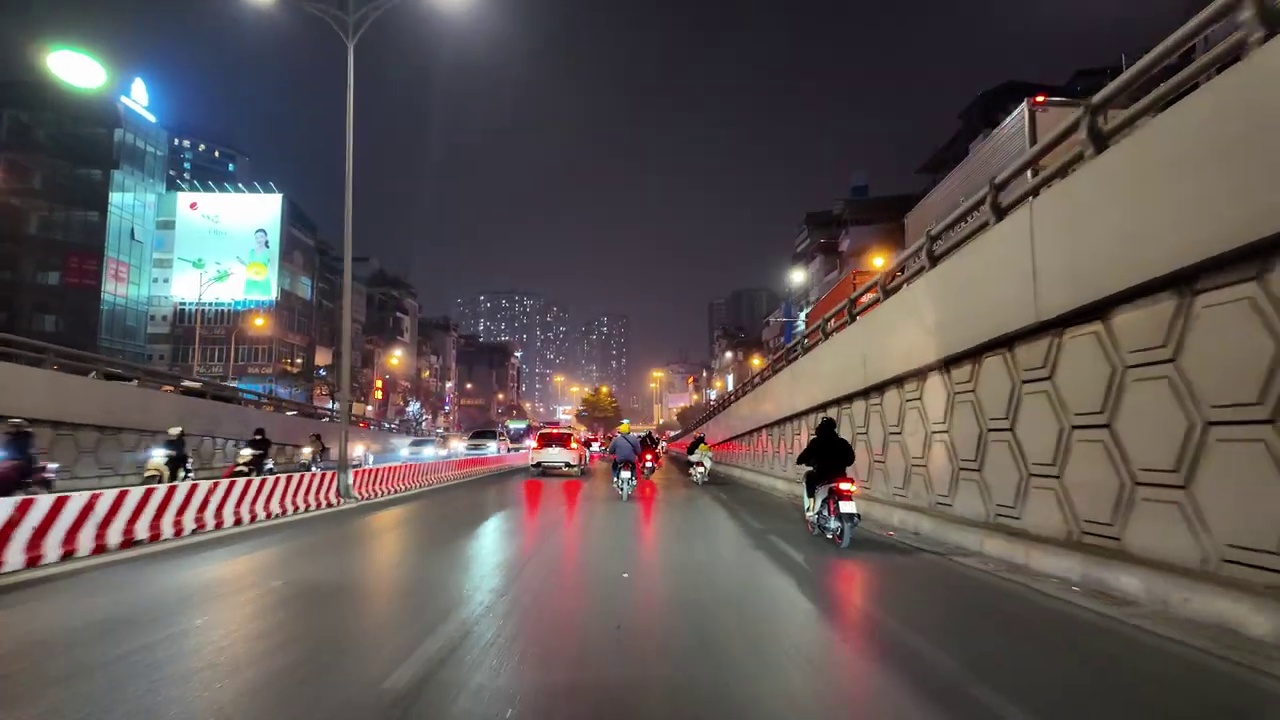acesa: (43, 50, 100, 90), (864, 247, 893, 274), (784, 263, 811, 291), (383, 346, 408, 372), (127, 80, 150, 107), (245, 313, 273, 335)
